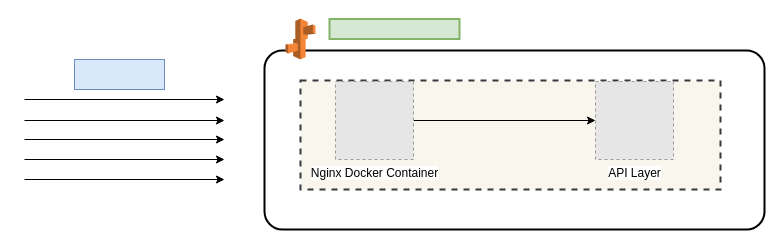
This 783x247 diagram has some shape labels left out. Grey dashed boxes stand in for pictures. The shapes that lost their labels are listed below. From the top down, each one's centre as x and y in pixels, then its label:
[394,29]: Elastic Beanstalk
[119,74]: Requests
